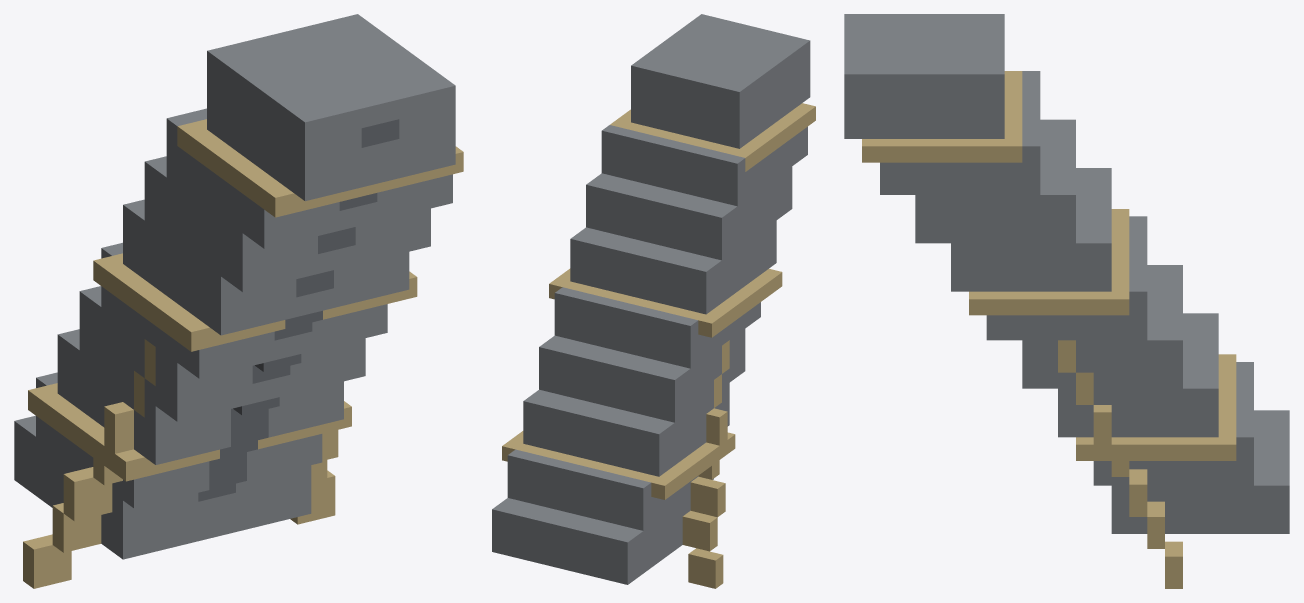
File: spine.glb
3 renders of one model, left to right at view 1: azimuth 30°, elevation 25°; view 2: azimuth 150°, elevation 25°; view 3: azimuth 270°, elevation 25°, orthographic. The views are drawn at different scales.
Size of the model in its own units: 16 by 30 by 25.
